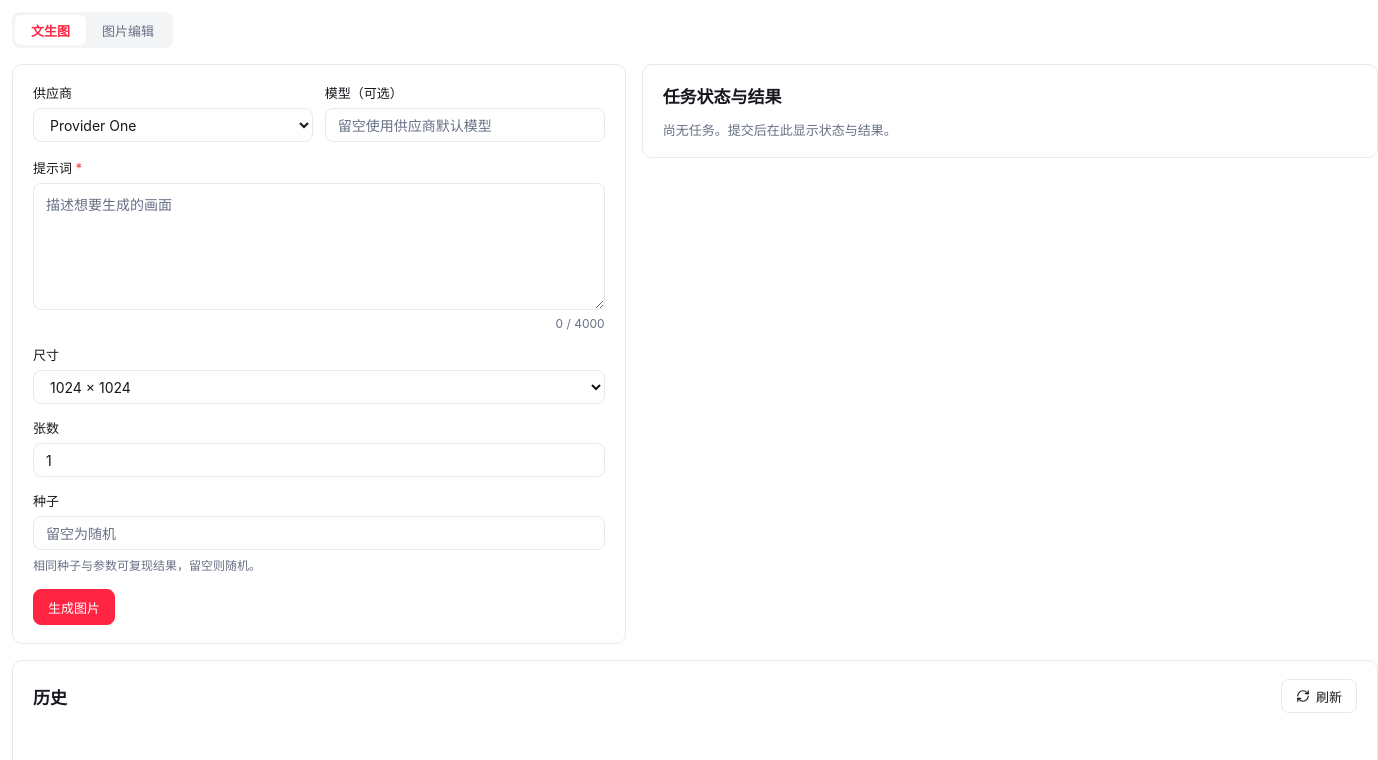
Test: 图像页 › 图片编辑 Tab 才出现图片字段，切换时保留已填提示词
Type "keep me" into the text box labelled "提示词 *".
click(319, 246); type("keep me")  # box [33,183,605,310]
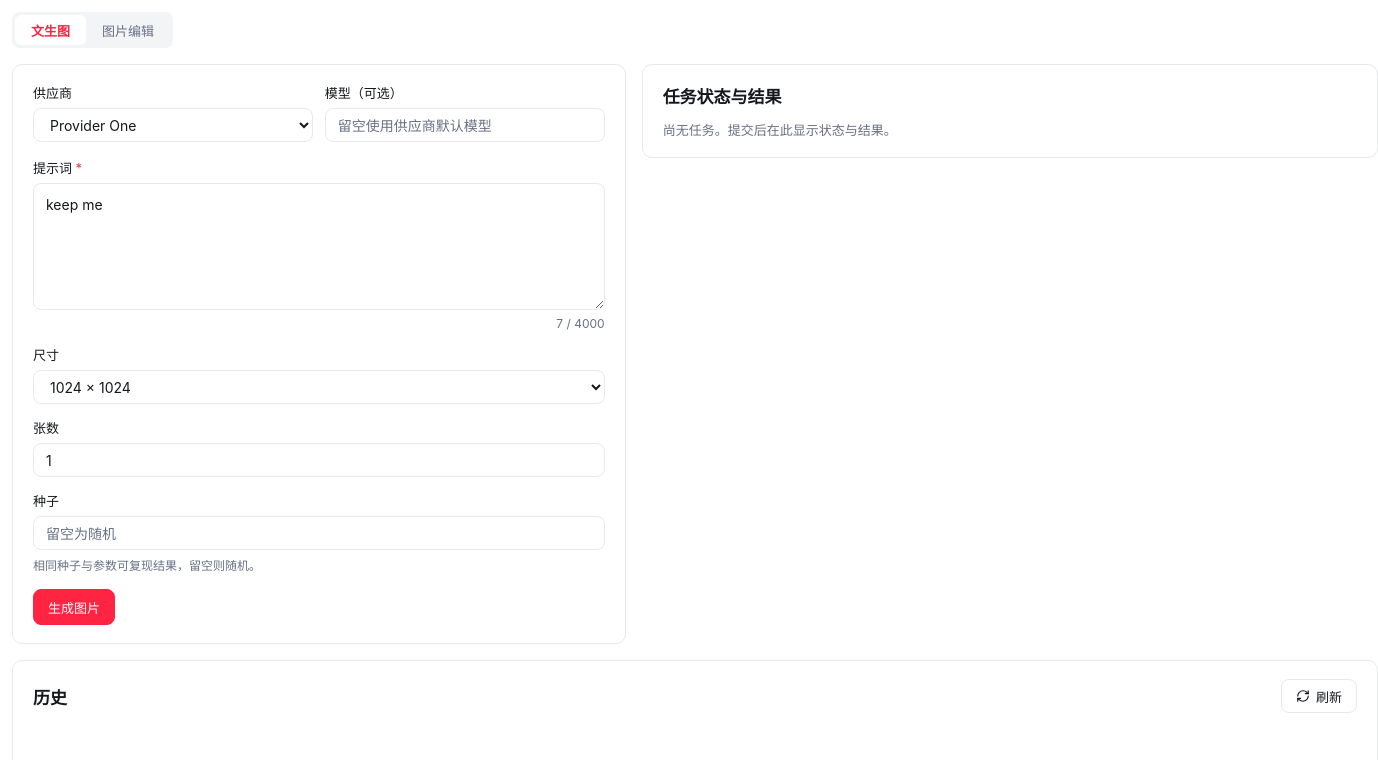
Click the tab with test id "tab-edit".
click(128, 30)  # box [86,15,170,45]
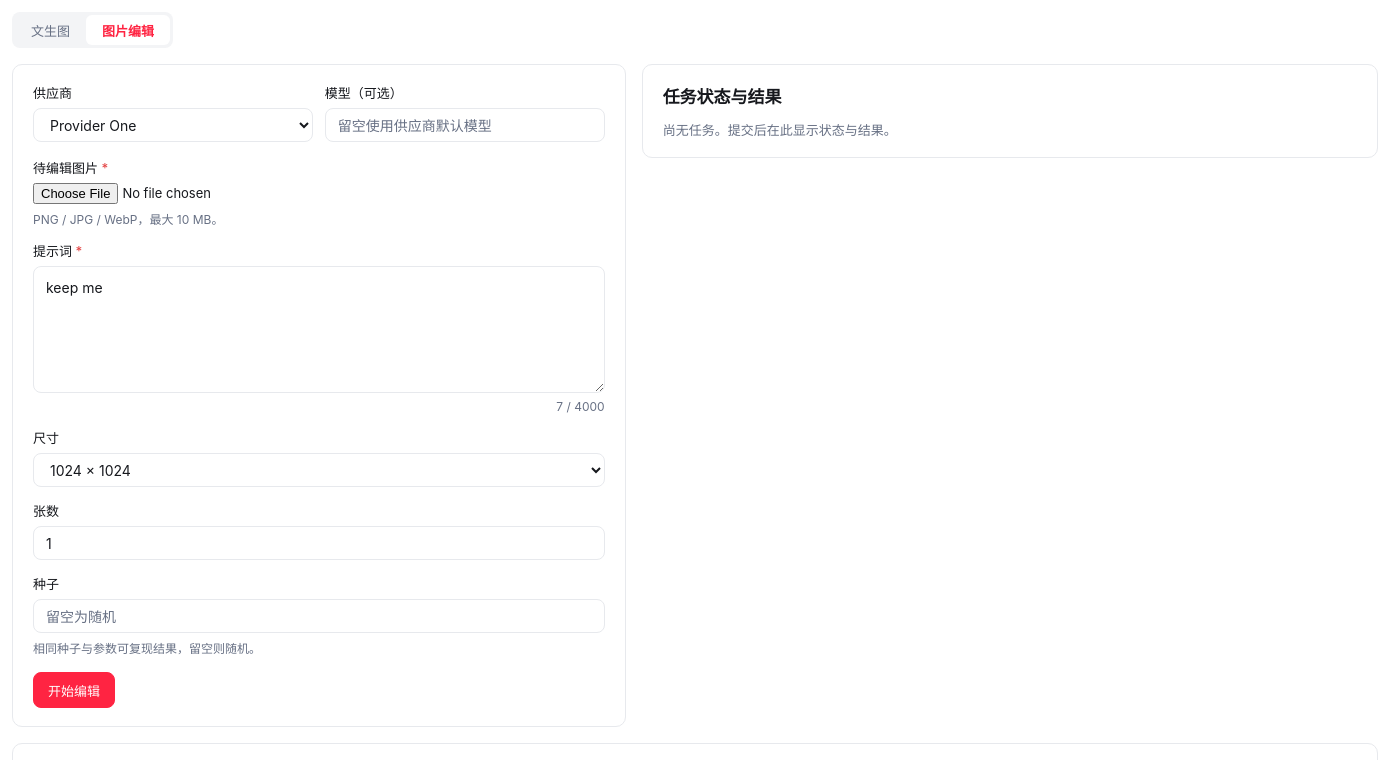
Now the element showing "待编辑图片 * PNG / JPG / WebP，最大 10 MB。" is shown, box [33,158,605,227]
